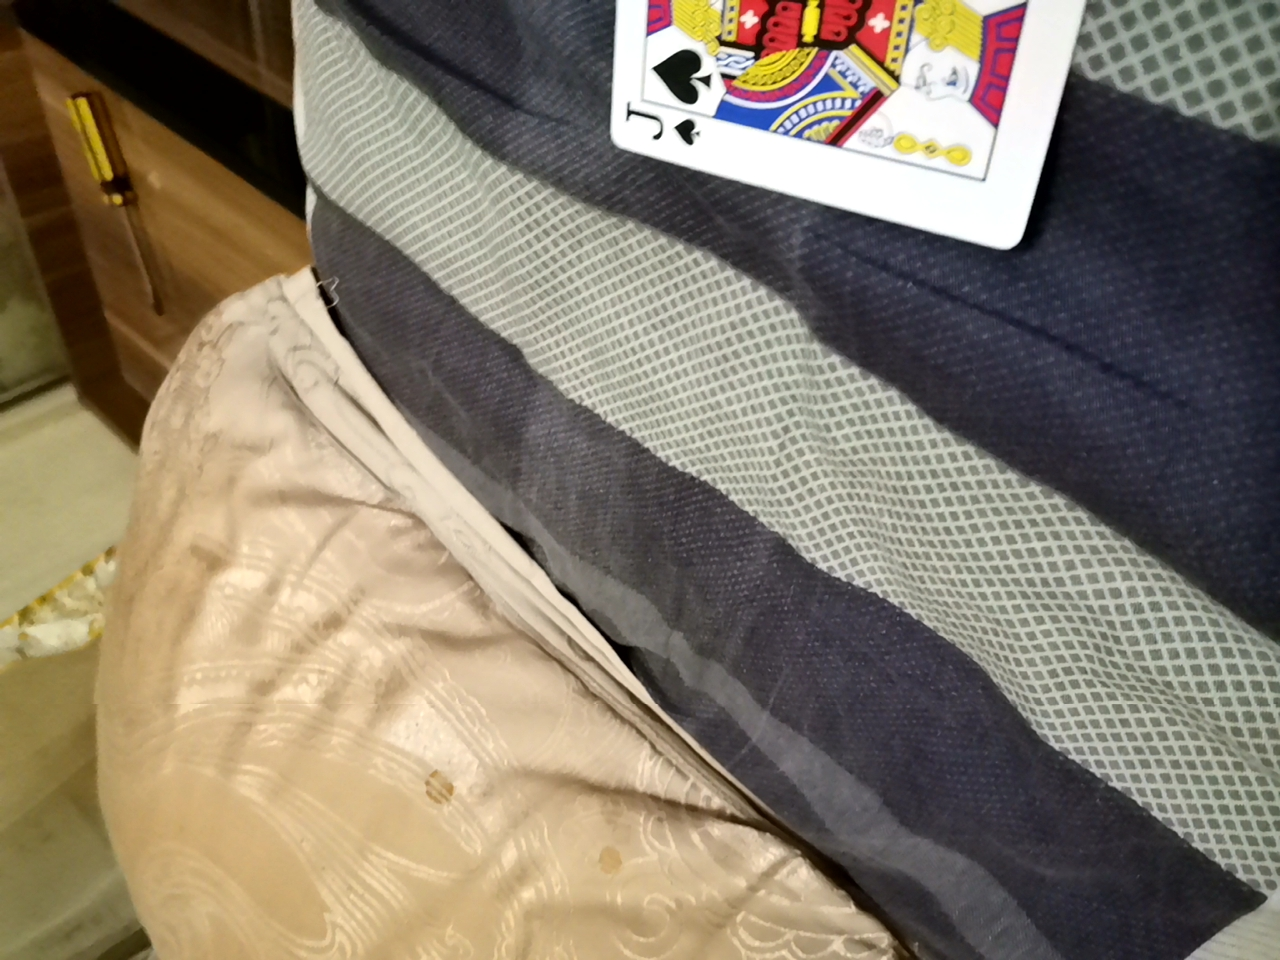ht j: (579, 0, 1113, 221)
